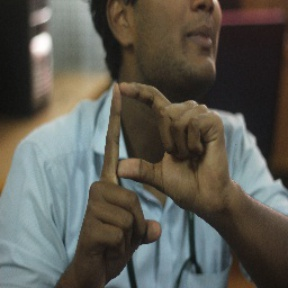D: (94, 78, 198, 213)
